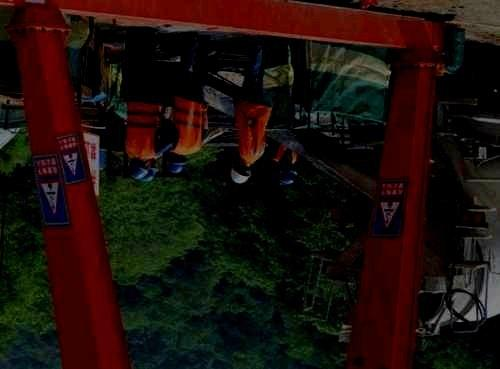helmet: (230, 162, 251, 184), (166, 152, 186, 174), (128, 157, 147, 180), (278, 166, 298, 185), (142, 160, 158, 182)
